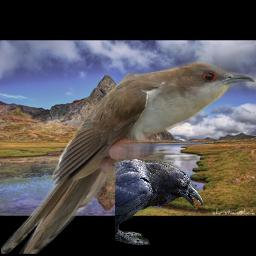Crow: (115, 158, 203, 245)
Cuckoo: (1, 62, 256, 254)
